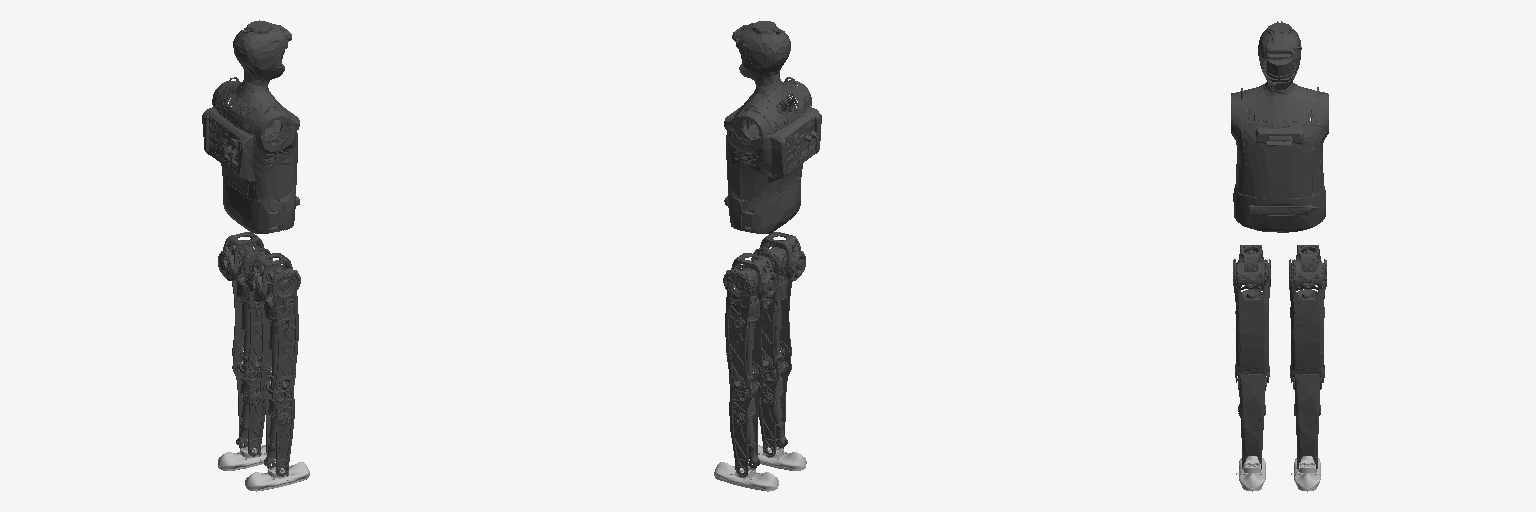
robot.urdf — BHR8-TC:
<?xml version="1.0"?>
<robot name="BHR8-TC">
  <link name="base">
    <inertial>
      <mass value="1.1"/>
      <origin xyz="0 0 0"/>
      <inertia ixx="0.0001" ixy="0" ixz="0" iyy="0.0001" iyz="0" izz="0.0001"/>
    </inertial>
  </link>
  <link name="uppbody">
    <inertial>
      <mass value="21.198"/>
      <origin xyz="-0.01 0 0.303214317947705"/>
      <inertia ixx="0.68" ixy="0" ixz="0" iyy="0.64" iyz="0" izz="0.18"/>
    </inertial>
    <collision>
      <origin rpy="0 0 0" xyz="0.0 0.0 0.3"/>
      <geometry>
        <sphere radius="0.2"/>
      </geometry>
    </collision>
    <visual>
      <origin rpy="0 0 0" xyz="0 0 0"/>
      <geometry>
        <mesh filename="BHR8TC_STL/torso.stl" scale="1 1 1"/>
        <!-- <sphere radius="0.2"/> -->
      </geometry>
      <material name="grey">
        <color rgba="0.35 0.35 0.35 1"/>
      </material>
    </visual>
  </link>
  <joint name="fixed_uppbody_to_base" type="fixed">
    <parent link="uppbody"/>
    <child link="base"/>
    <origin xyz="0 0 0" rpy="0 0 0"/>
  </joint>
  <!-- <link name="larm">
    <inertial>
      <mass value="0"/>
      <origin xyz="0.019 0 -0.229"/>
      <inertia ixx="0" ixy="0" ixz="0" iyy="0" iyz="0" izz="0"/>
    </inertial>
  </link>
  <joint name="larm1" type="revolute">
    <parent link="uppbody"/>
    <child link="larm"/>
    <origin xyz="-0.042 0.272 0.411" rpy="0 0 0"/>
    <axis xyz="0 1 0"/>
    <limit effort="100.0" velocity="100.0" lower="-3.14" upper="3.14"/>
  </joint>
  <link name="rarm">
    <inertial>
      <mass value="0"/>
      <origin xyz="0.019 0 -0.229"/>
      <inertia ixx="0" ixy="0" ixz="0" iyy="0" iyz="0" izz="0"/>
    </inertial>
  </link>
  <joint name="rarm1" type="revolute">
    <parent link="uppbody"/>
    <child link="rarm"/>
    <origin xyz="-0.042 -0.272 0.411" rpy="0 0 0"/>
    <axis xyz="0 1 0"/>
    <limit effort="100.0" velocity="100.0" lower="-3.14" upper="3.14"/>
  </joint> -->
  <link name="lhip_rz">
    <inertial>
      <mass value="2.389"/>
      <origin xyz="-0.07 0.0 -0.092"/>
      <inertia ixx="0.003" ixy="0" ixz="0" iyy="0.003" iyz="0" izz="0.003"/>
    </inertial>
    <visual>
      <origin rpy="0 0 0" xyz="0 0 0"/>
      <geometry>
        <mesh filename="BHR8TC_STL/lhipyaw.stl" scale="1 1 1"/>
      </geometry>
      <material name="grey">
        <color rgba="0.35 0.35 0.35 1"/>
      </material>
    </visual>
  </link>
  <joint name="leg1_left" type="revolute">
    <parent link="base"/>
    <child link="lhip_rz"/>
    <origin xyz="0 0.1 0.03524" rpy="0 0 0"/>
    <axis xyz="0 0 1"/>
    <limit effort="100.0" velocity="100.0" lower="-3.14" upper="3.14"/>
  </joint>
  <link name="lhip_rzrx">
    <inertial>
      <mass value="2.507"/>
      <origin xyz="0.075 0.0 0.0"/>
      <inertia ixx="0.004" ixy="0" ixz="0" iyy="0.003" iyz="0" izz="0.004"/>
    </inertial>
    <visual>
      <origin rpy="0 0 0" xyz="0 0 0"/>
      <geometry>
        <mesh filename="BHR8TC_STL/lhiproll.stl" scale="1 1 1"/>
      </geometry>
      <material name="grey">
        <color rgba="0.35 0.35 0.35 1"/>
      </material>
    </visual>
  </link>
  <joint name="leg2_left" type="revolute">
    <parent link="lhip_rz"/>
    <child link="lhip_rzrx"/>
    <origin xyz="-0.066 0 -0.13924" rpy="0 0 0"/>
    <axis xyz="1 0 0"/>
    <limit effort="100.0" velocity="100.0" lower="-3.14" upper="3.14"/>
  </joint>
  <link name="lthigh">
    <inertial>
      <mass value="3.096"/>
      <origin xyz="0.02 0.0 -0.17"/>
      <inertia ixx="0.040" ixy="0" ixz="0" iyy="0.040" iyz="0" izz="0.006"/>
    </inertial>
    <visual>
      <origin rpy="0 0 0" xyz="0 0 0"/>
      <geometry>
        <mesh filename="BHR8TC_STL/lhippitch.stl" scale="1 1 1"/>
      </geometry>
      <material name="grey">
        <color rgba="0.35 0.35 0.35 1"/>
      </material>
    </visual>
  </link>
  <joint name="leg3_left" type="revolute">
    <parent link="lhip_rzrx"/>
    <child link="lthigh"/>
    <origin xyz="0.077 0.0001 0" rpy="0 0 0"/>
    <axis xyz="0 1 0"/>
    <limit effort="100.0" velocity="100.0" lower="-3.14" upper="3.14"/>
  </joint>
  <link name="lshank">
    <inertial>
      <mass value="1.914"/>
      <origin xyz="0.01 0.0 -0.15"/>
      <inertia ixx="0.02" ixy="0" ixz="0" iyy="0.02" iyz="0" izz="0.002"/>
    </inertial>
    <visual>
      <origin rpy="0 0 0" xyz="0 0 0"/>
      <geometry>
        <mesh filename="BHR8TC_STL/lkneepitch.stl" scale="1 1 1"/>
      </geometry>
      <material name="grey">
        <color rgba="0.35 0.35 0.35 1"/>
      </material>
    </visual>
  </link>
  <joint name="leg4_left" type="revolute">
    <parent link="lthigh"/>
    <child link="lshank"/>
    <origin xyz="0.00754465 -0.00336 -0.374943" rpy="0 0 0"/>
    <axis xyz="0 1 0"/>
    <limit effort="100.0" velocity="100.0" lower="-3.14" upper="3.14"/>
  </joint>
  <link name="lankle">
    <inertial>
      <mass value="0.6"/>
      <origin xyz="0.0005146 -4.289e-05 -0.04189"/>
      <inertia ixx="0.002" ixy="0" ixz="0" iyy="0.002" iyz="0" izz="0.0004"/>
    </inertial>
    <visual>
      <origin rpy="0 0 0" xyz="0 0 0"/>
      <geometry>
        <mesh filename="BHR8TC_STL/lanklepitch.stl" scale="1 1 1"/>
      </geometry>
      <material name="light_grey">
        <color rgba="0.75 0.75 0.75 1"/>
      </material>
    </visual>
    <collision>
      <origin rpy="0 0 0" xyz="0.03 0.0 -0.05"/>
      <geometry>
          <box size="0.2 0.1 0.02"/>
      </geometry>
    </collision>
  </link>
  <joint name="leg5_left" type="revolute">
    <parent link="lshank"/>
    <child link="lankle"/>
    <origin xyz="0 0 -0.35" rpy="0 0 0"/>
    <axis xyz="0 1 0"/>
    <limit effort="100.0" velocity="100.0" lower="-3.14" upper="3.14"/>
  </joint>
  
  <link name="rhip_rz">
    <inertial>
      <mass value="2.389"/>
      <origin xyz="-0.07 0.0 -0.092"/>
      <inertia ixx="0.003" ixy="0" ixz="0" iyy="0.003" iyz="0" izz="0.003"/>
    </inertial>
    <visual>
      <origin rpy="0 0 0" xyz="0 0 0"/>
      <geometry>
        <mesh filename="BHR8TC_STL/rhipyaw.stl" scale="1 1 1"/>
      </geometry>
      <material name="grey">
        <color rgba="0.35 0.35 0.35 1"/>
      </material>
    </visual>
  </link>
  <joint name="leg1_right" type="revolute">
    <parent link="base"/>
    <child link="rhip_rz"/>
    <origin xyz="0 -0.1 0.03524" rpy="0 0 0"/>
    <axis xyz="0 0 1"/>
    <limit effort="100.0" velocity="100.0" lower="-3.14" upper="3.14"/>
  </joint>
  <link name="rhip_rzrx">
    <inertial>
      <mass value="2.507"/>
      <origin xyz="0.075 0.0 0.0"/>
      <inertia ixx="0.004" ixy="0" ixz="0" iyy="0.003" iyz="0" izz="0.004"/>
    </inertial>
    <visual>
      <origin rpy="0 0 0" xyz="0 0 0"/>
      <geometry>
        <mesh filename="BHR8TC_STL/rhiproll.stl" scale="1 1 1"/>
      </geometry>
      <material name="grey">
        <color rgba="0.35 0.35 0.35 1"/>
      </material>
    </visual>
  </link>
  <joint name="leg2_right" type="revolute">
    <parent link="rhip_rz"/>
    <child link="rhip_rzrx"/>
    <origin xyz="-0.066 0 -0.13924" rpy="0 0 0"/>
    <axis xyz="1 0 0"/>
    <limit effort="100.0" velocity="100.0" lower="-3.14" upper="3.14"/>
  </joint>
  <link name="rthigh">
    <inertial>
      <mass value="3.096"/>
      <origin xyz="0.02 0.0 -0.17"/>
      <inertia ixx="0.040" ixy="0" ixz="0" iyy="0.040" iyz="0" izz="0.006"/>
    </inertial>
    <visual>
      <origin rpy="0 0 0" xyz="0 0 0"/>
      <geometry>
        <mesh filename="BHR8TC_STL/rhippitch.stl" scale="1 1 1"/>
      </geometry>
      <material name="grey">
        <color rgba="0.35 0.35 0.35 1"/>
      </material>
    </visual>
  </link>
  <joint name="leg3_right" type="revolute">
    <parent link="rhip_rzrx"/>
    <child link="rthigh"/>
    <origin xyz="0.077 0.0001 0" rpy="0 0 0"/>
    <axis xyz="0 1 0"/>
    <limit effort="100.0" velocity="100.0" lower="-3.14" upper="3.14"/>
  </joint>
  <link name="rshank">
    <inertial>
      <mass value="1.914"/>
      <origin xyz="0.01 0.0 -0.15"/>
      <inertia ixx="0.02" ixy="0" ixz="0" iyy="0.02" iyz="0" izz="0.002"/>
    </inertial>
    <visual>
      <origin rpy="0 0 0" xyz="0 0 0"/>
      <geometry>
        <mesh filename="BHR8TC_STL/lkneepitch.stl" scale="1 1 1"/>
      </geometry>
      <material name="grey">
        <color rgba="0.35 0.35 0.35 1"/>
      </material>
    </visual>
  </link>
  <joint name="leg4_right" type="revolute">
    <parent link="rthigh"/>
    <child link="rshank"/>
    <origin xyz="0.00754465 0.00336 -0.374943" rpy="0 0 0"/>
    <axis xyz="0 1 0"/>
    <limit effort="100.0" velocity="100.0" lower="-3.14" upper="3.14"/>
  </joint>
  <link name="rankle">
    <inertial>
      <mass value="0.6"/>
      <origin xyz="0.0005146 -4.289e-05 -0.04189"/>
      <inertia ixx="0.002" ixy="0" ixz="0" iyy="0.002" iyz="0" izz="0.0004"/>
    </inertial>
    <visual>
      <origin rpy="0 0 0" xyz="0 0 0"/>
      <geometry>
        <mesh filename="BHR8TC_STL/ranklepitch.stl" scale="1 1 1"/>
      </geometry>
      <material name="light_grey">
        <color rgba="0.75 0.75 0.75 1"/>
      </material>
    </visual>
    <collision>
      <origin rpy="0 0 0" xyz="0.03 0.0 -0.05"/>
      <geometry>
          <box size="0.2 0.1 0.02"/>
      </geometry>
    </collision>
  </link>
  <joint name="leg5_right" type="revolute">
    <parent link="rshank"/>
    <child link="rankle"/>
    <origin xyz="0 0 -0.35" rpy="0 0 0"/>
    <axis xyz="0 1 0"/>
    <limit effort="100.0" velocity="100.0" lower="-3.14" upper="3.14"/>
  </joint>
</robot>

--- What the picture shows (computed from the rendered views, not written in the file) ---
Views: 3 orthographic renders of the robot side by side, from view 1: azimuth 30°, elevation 25°; view 2: azimuth 150°, elevation 25°; view 3: azimuth 270°, elevation 25°.
Model BHR8-TC with 12 links and 11 joints (10 revolute, 1 fixed), rooted at uppbody, posed all joints at 0.
Visible links, largest first — view 1: uppbody, rthigh, rshank, lshank, lthigh, rankle, lankle, lhip_rz, rhip_rz, rhip_rzrx, lhip_rzrx; view 2: uppbody, lthigh, lshank, rshank, rthigh, lankle, rankle, lhip_rz, rhip_rz, lhip_rzrx; view 3: uppbody, lthigh, rthigh, lshank, rshank, rankle, lankle, lhip_rzrx, rhip_rzrx, lhip_rz.
Boxes of the visible links, x1,y1,x2,y2 form: uppbody: (202,20,299,233); rthigh: (259,260,298,392); rshank: (260,361,294,476); lshank: (232,341,264,456); lthigh: (231,240,268,372); rankle: (245,459,309,491); lankle: (218,439,266,470); lhip_rz: (223,232,263,280); rhip_rz: (251,253,292,301); rhip_rzrx: (246,260,300,298); lhip_rzrx: (218,240,272,277); uppbody: (724,21,821,233); lthigh: (725,260,764,392); lshank: (729,361,763,476); rshank: (759,341,791,456); rthigh: (755,240,792,372); lankle: (714,459,778,491); rankle: (758,439,806,470); lhip_rz: (731,253,772,301); rhip_rz: (760,232,800,280); lhip_rzrx: (723,260,777,298); uppbody: (1231,21,1328,232); lthigh: (1289,259,1326,382); rthigh: (1233,259,1270,382); lshank: (1290,365,1324,468); rshank: (1235,364,1269,468); rankle: (1236,456,1265,491); lankle: (1291,456,1320,491); lhip_rzrx: (1294,251,1323,290); rhip_rzrx: (1236,251,1264,290); lhip_rz: (1296,245,1320,289).
Size in the robot's own frame: 0.3032 by 0.3459 by 1.74 metres.
11 mesh visuals loaded from 10 distinct referenced files (10 binary STL).
